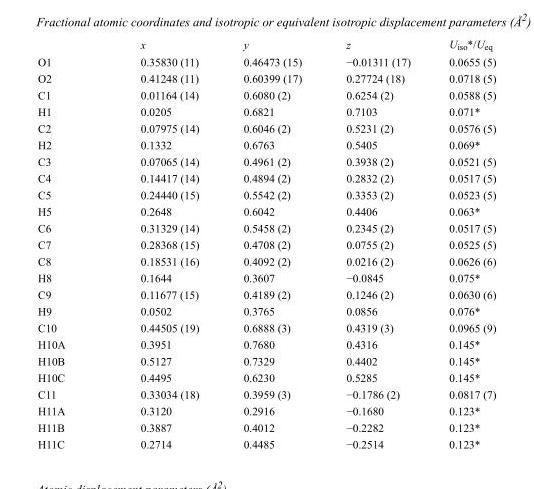table: (37, 37, 495, 449)
table column: (102, 37, 220, 449), (323, 37, 429, 449), (220, 37, 323, 449), (429, 37, 495, 449), (37, 37, 102, 449)
table column header: (37, 37, 495, 53)
table row: (37, 69, 495, 86), (37, 102, 495, 119), (37, 119, 495, 136), (37, 152, 495, 169), (37, 169, 495, 186), (37, 202, 495, 219), (37, 235, 495, 252), (37, 252, 495, 269), (37, 285, 495, 302), (37, 302, 495, 319), (37, 335, 495, 352), (37, 368, 495, 385), (37, 385, 495, 402), (37, 418, 495, 435), (37, 37, 495, 53), (37, 53, 495, 69), (37, 86, 495, 102), (37, 136, 495, 152), (37, 186, 495, 202), (37, 219, 495, 235), (37, 269, 495, 285), (37, 319, 495, 335), (37, 352, 495, 368), (37, 402, 495, 418), (37, 435, 495, 449)
